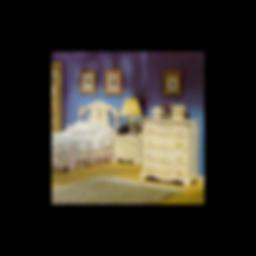Armario: (142, 119, 196, 188)
